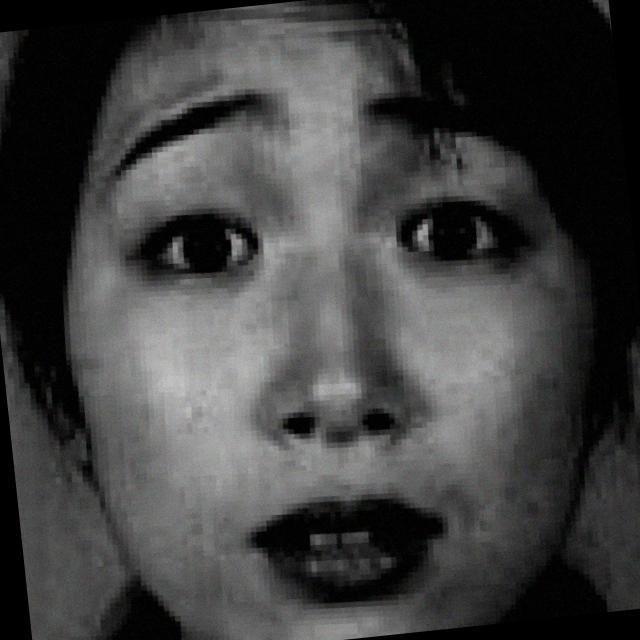fear: (35, 27, 596, 640)
